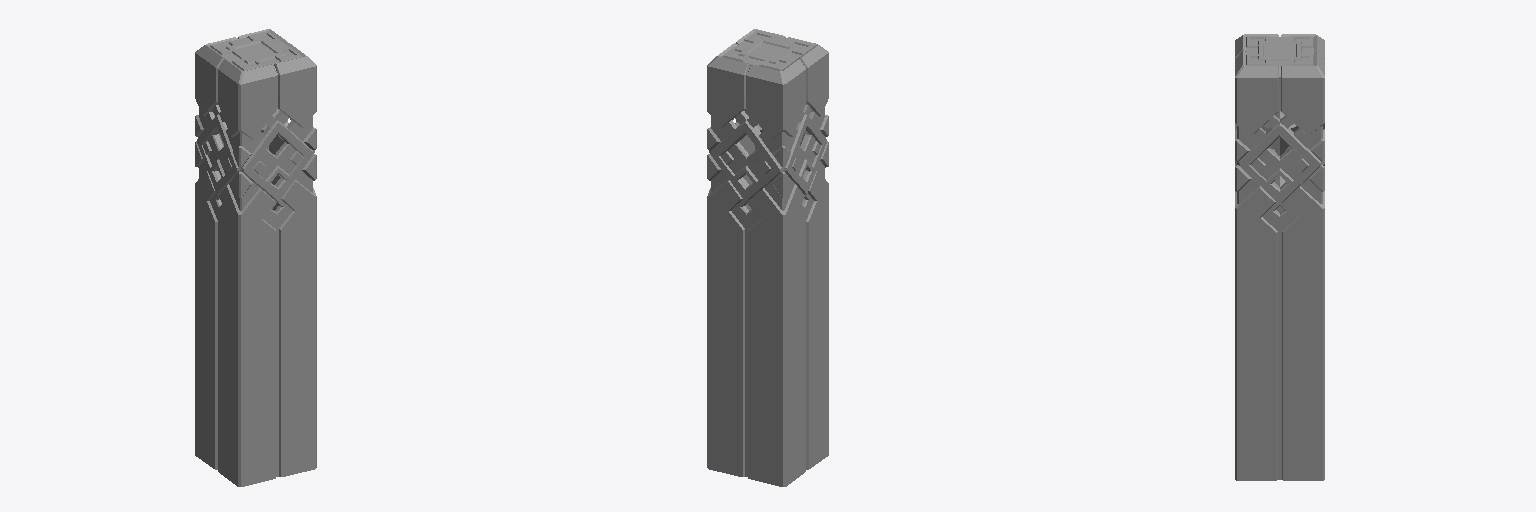
The model's file is zhong2.obj.
3 renders of one model, left to right at view 1: azimuth 30°, elevation 25°; view 2: azimuth 150°, elevation 25°; view 3: azimuth 270°, elevation 25°, orthographic.
Size of the model in its own units: 1.03 by 5.14 by 1.03.